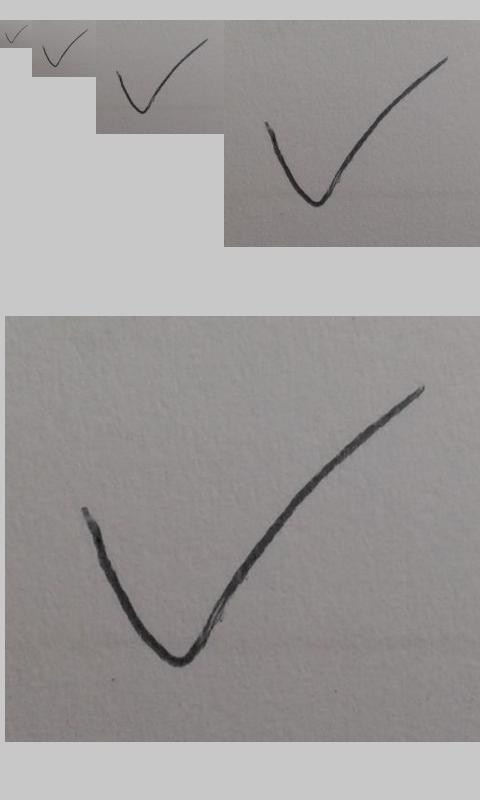check_box: (85, 387, 419, 668), (265, 58, 445, 208), (117, 39, 208, 115), (42, 29, 87, 68), (4, 26, 26, 44)
